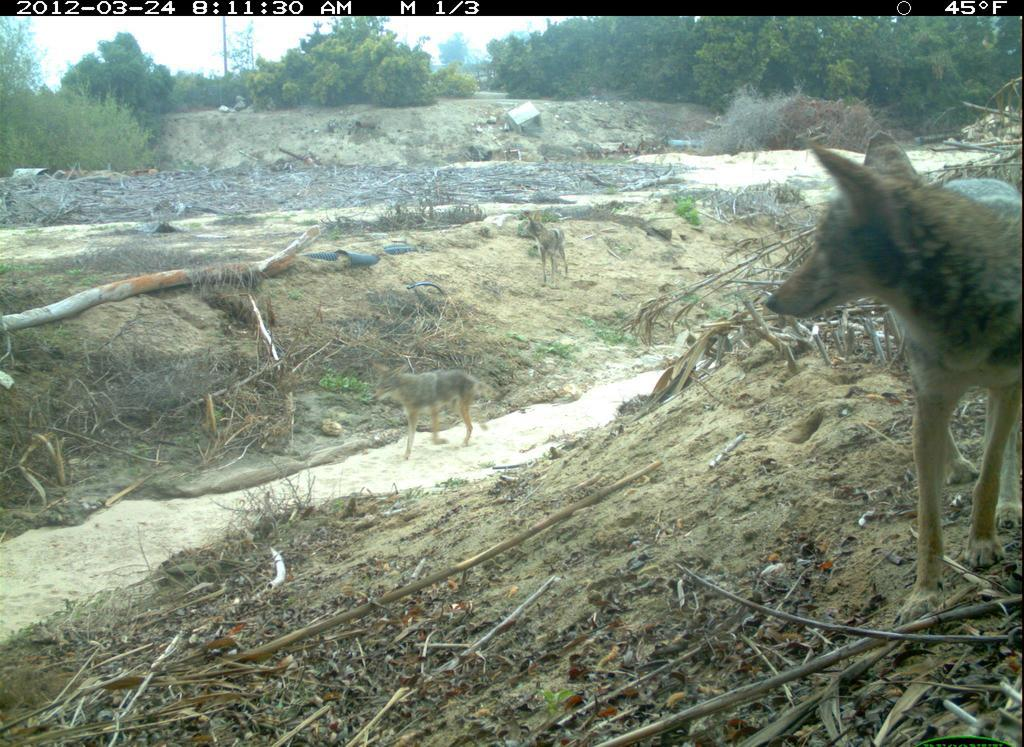coyote: (766, 137, 1024, 624), (363, 356, 490, 461), (520, 210, 580, 290)
